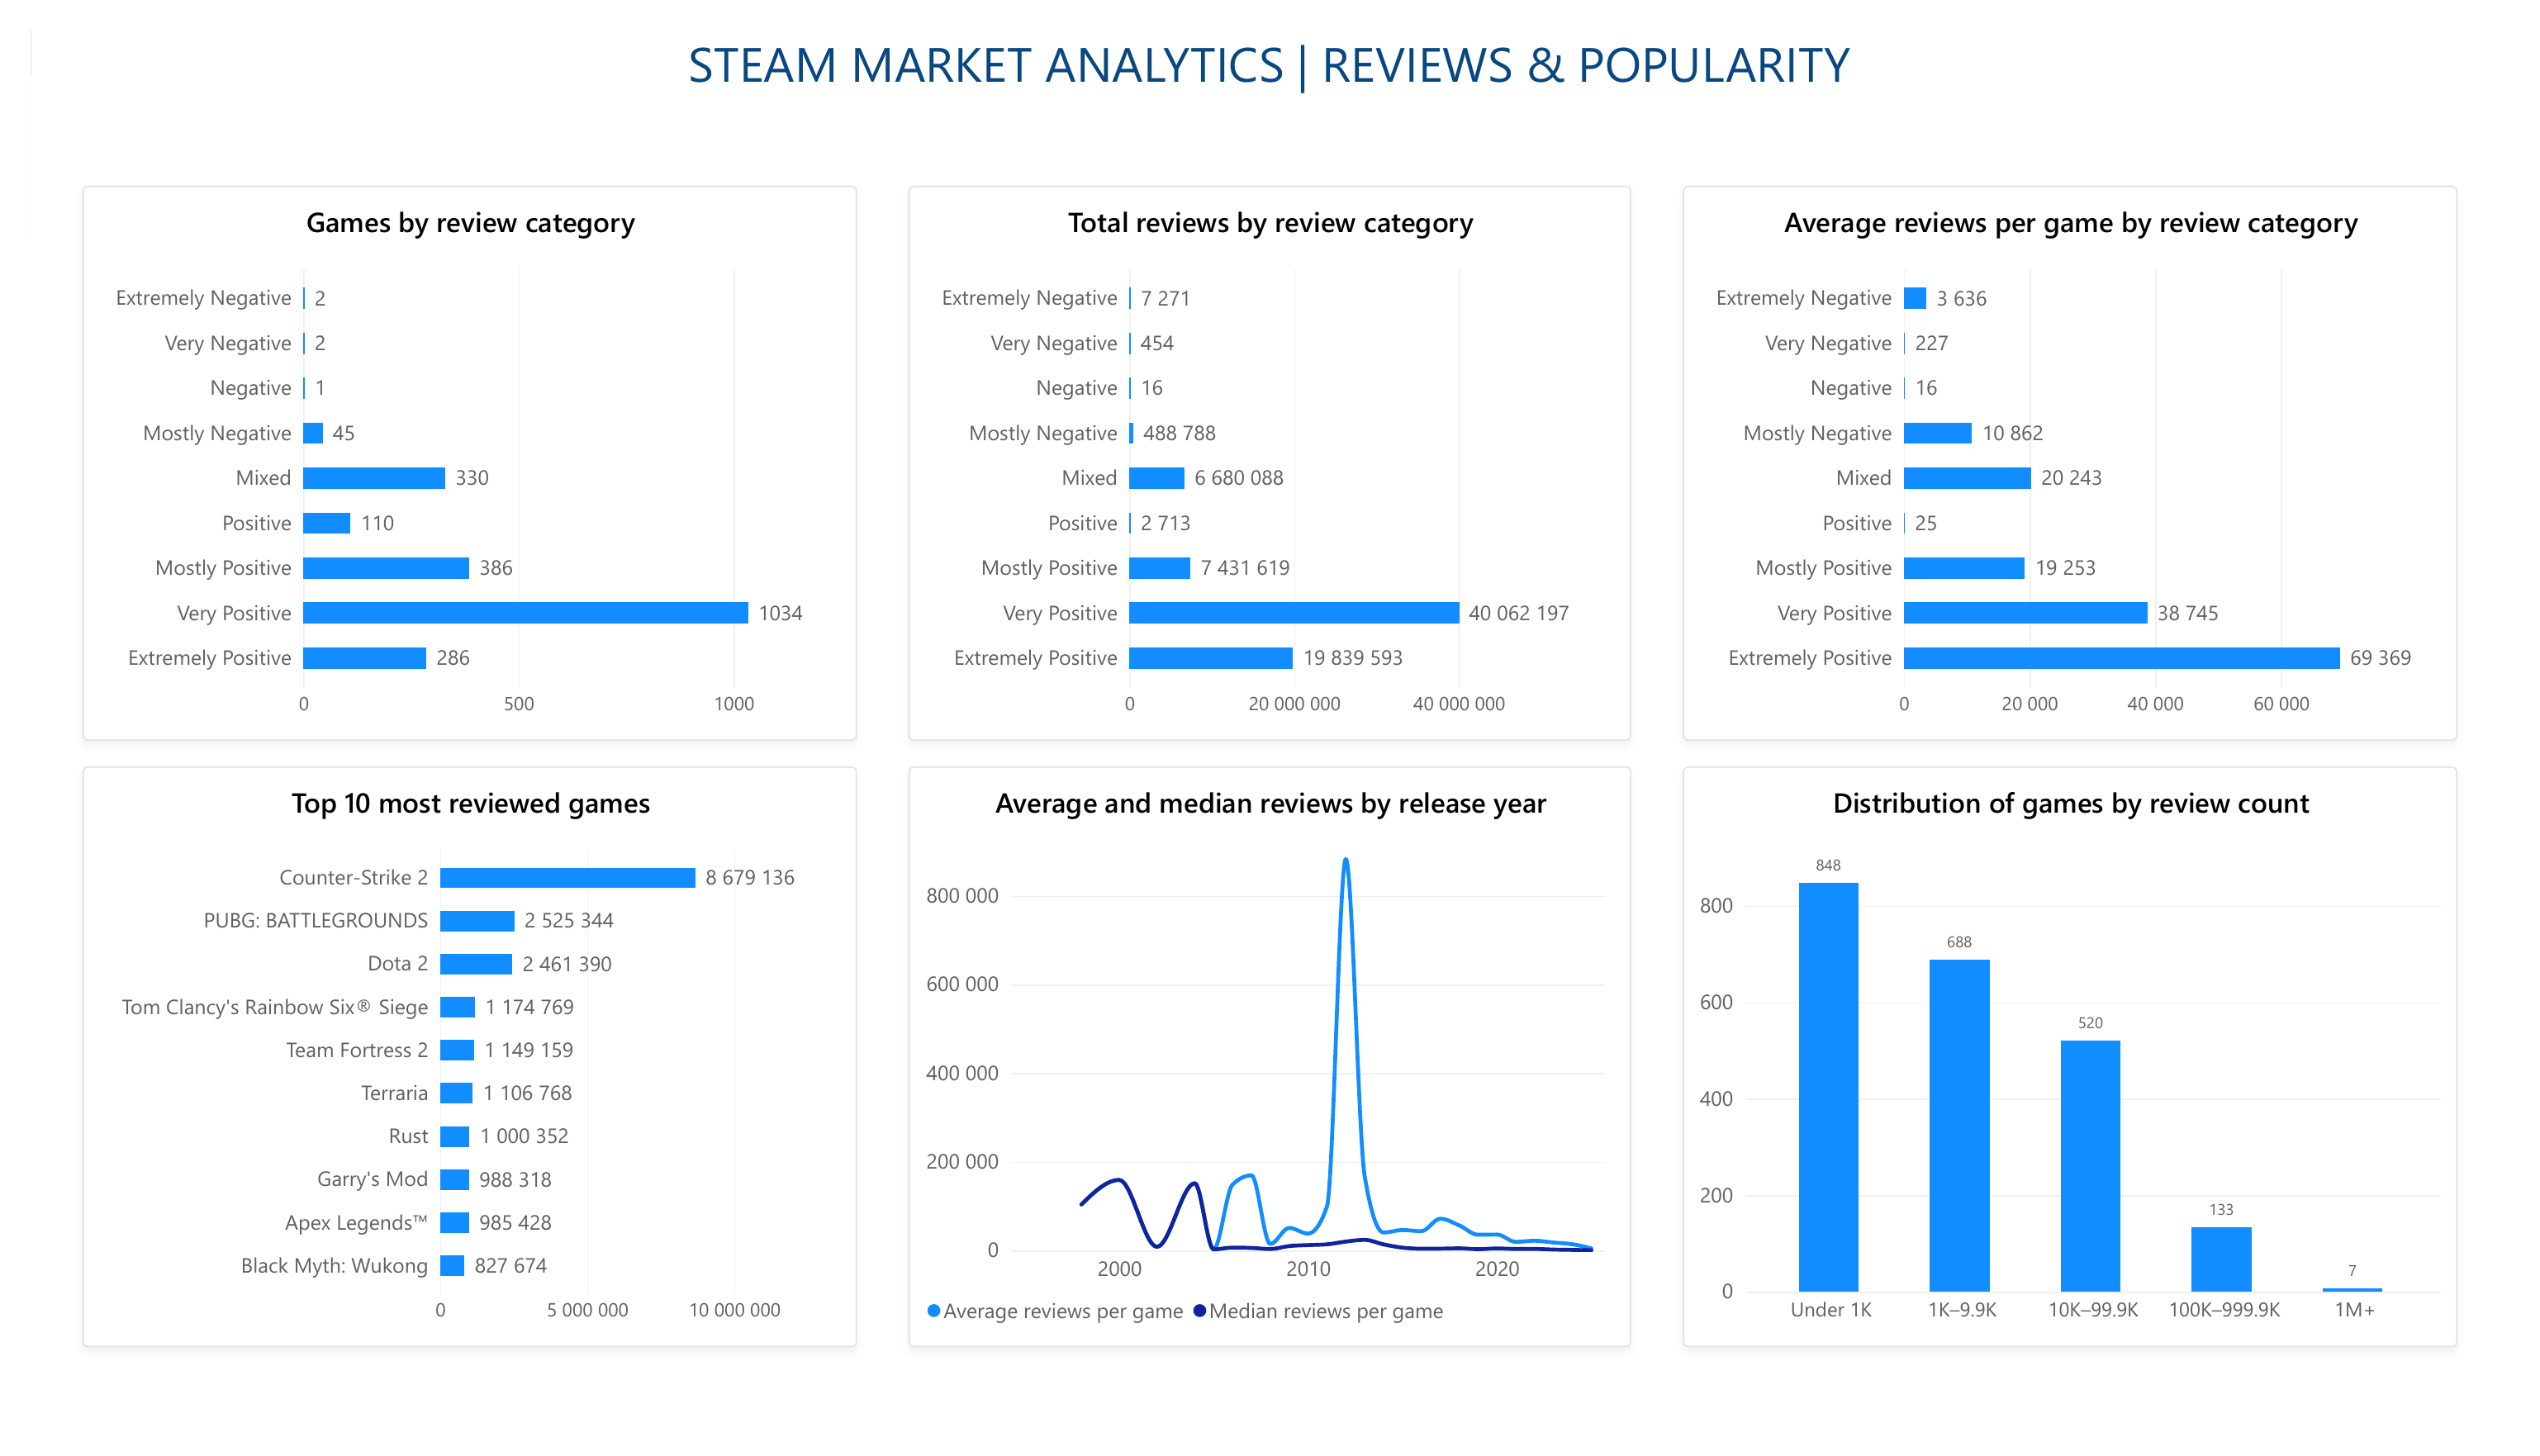

What the dashboard file says about the page in this screenshot:
{"tool":"powerbi","page":{"name":"Reviews & popularity","canvas":[1920,1080],"ordinal":2},"visuals":[{"type":"clusteredBarChart","title":"\tGames by review category","fields":{"Category":["analytics steam_items.Review category"],"Y":["analytics steam_items.Liczba gier"]},"box":[40,120,600,430],"z":0},{"type":"clusteredBarChart","title":"\tTotal reviews by review category","fields":{"Category":["analytics steam_items.Review category"],"Y":["analytics steam_items.Łączna liczba recenzji"]},"box":[680,120,560,430],"z":1000},{"type":"clusteredBarChart","title":"\tAverage reviews per game by review category","fields":{"Category":["analytics steam_items.Review category"],"Y":["analytics steam_items.Średnia liczba recenzji na grę"]},"box":[1280,120,600,430],"z":2000},{"type":"clusteredBarChart","title":"\tTop 10 most reviewed games","fields":{"Category":["analytics steam_items.title"],"Y":["Sum(analytics steam_items.review_count)"]},"box":[40,570,600,450],"z":3000},{"type":"lineChart","title":"\tAverage and median reviews by release year","fields":{"Category":["analytics steam_items.Rok wydania"],"Y":["analytics steam_items.Średnia liczba recenzji na grę","analytics steam_items.Mediana recenzji na grę"]},"box":[680,570,560,450],"z":4000},{"type":"columnChart","title":"\tDistribution of games by review count","fields":{"Category":["analytics steam_items.Review Count Range"],"Y":["analytics steam_items.Liczba gier"]},"box":[1280,570,600,450],"z":5000},{"type":"textbox","title":"Tytuł","box":[40,0,1840,103.8],"z":6000}]}

Visuals, with their boxes on the page's 1920x1080 design canvas (x1, y1, x2, y2). These are canvas units, not pixel positions in the 2540x1456 screenshot, which may show the page scaled, cropped or inside an application window:
"	Games by review category" clusteredBarChart: pyautogui.locateOnScreen(40, 120, 640, 550)
"	Total reviews by review category" clusteredBarChart: pyautogui.locateOnScreen(680, 120, 1240, 550)
"	Average reviews per game by review category" clusteredBarChart: pyautogui.locateOnScreen(1280, 120, 1880, 550)
"	Top 10 most reviewed games" clusteredBarChart: pyautogui.locateOnScreen(40, 570, 640, 1020)
"	Average and median reviews by release year" lineChart: pyautogui.locateOnScreen(680, 570, 1240, 1020)
"	Distribution of games by review count" columnChart: pyautogui.locateOnScreen(1280, 570, 1880, 1020)
"Tytuł" textbox: pyautogui.locateOnScreen(40, 0, 1880, 104)
